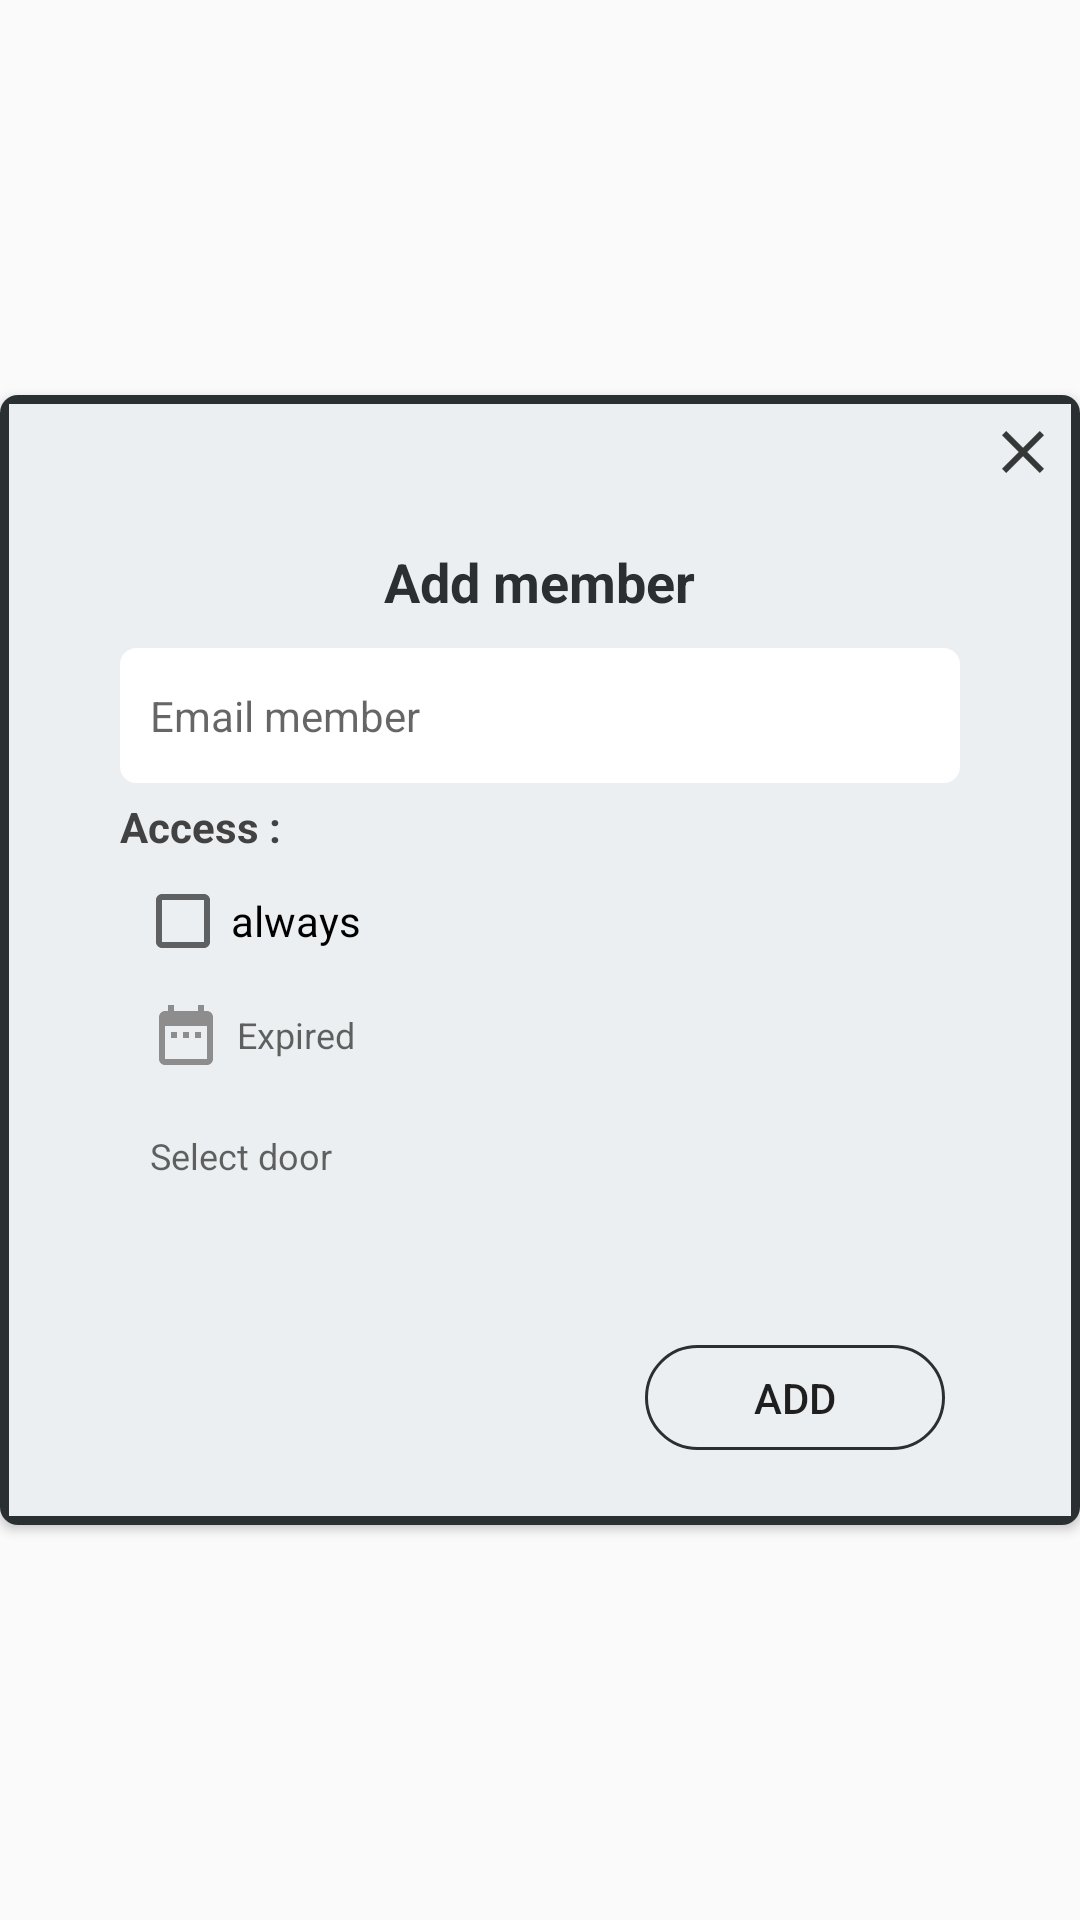

Icon bounding boxes for this 1080 × 1920 phone screenshot, format [x1=x1, y1=y1, x2=x2, y2=y2]:
close: [x1=1002, y1=431, x2=1044, y2=473]
